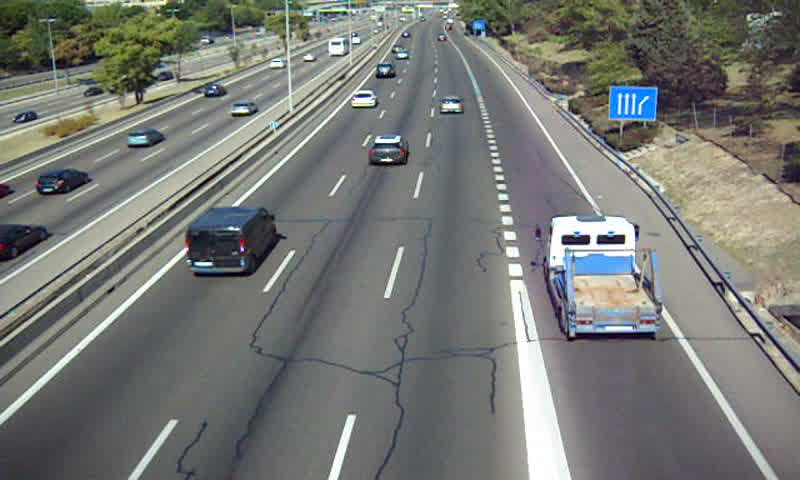car: (368, 135, 408, 166), (438, 95, 464, 117), (349, 90, 377, 108), (374, 63, 395, 79), (394, 49, 412, 61)
small-truck: (548, 216, 660, 336)
van: (183, 208, 274, 275)
